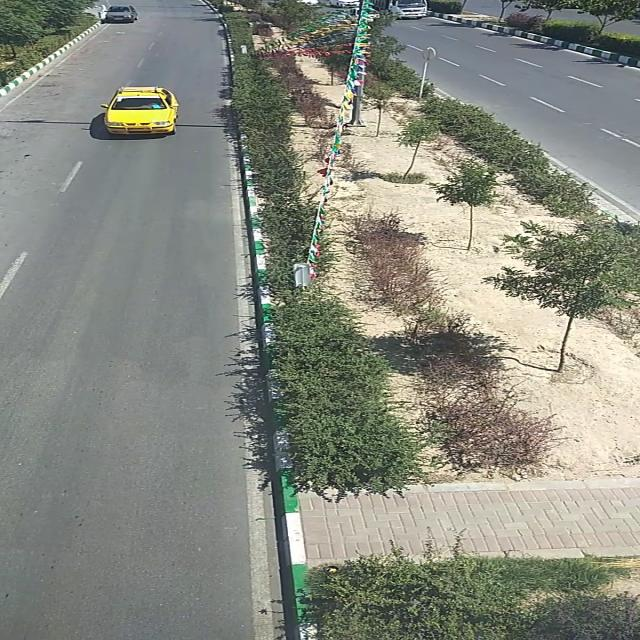car: (100, 87, 182, 139), (103, 7, 140, 23)
truck: (365, 2, 431, 18)
